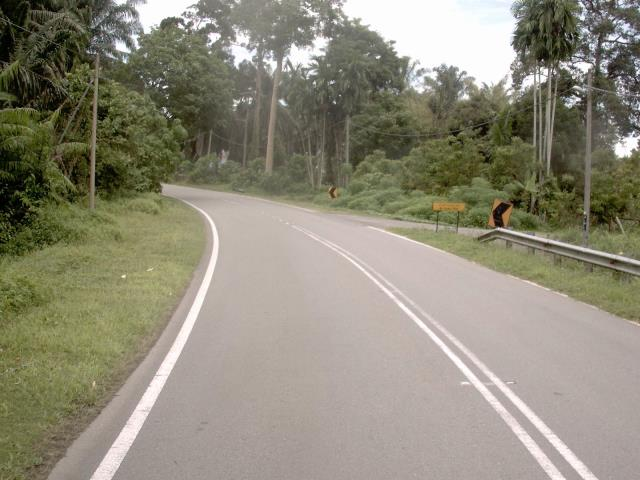traffic_sign: (486, 195, 515, 230)
